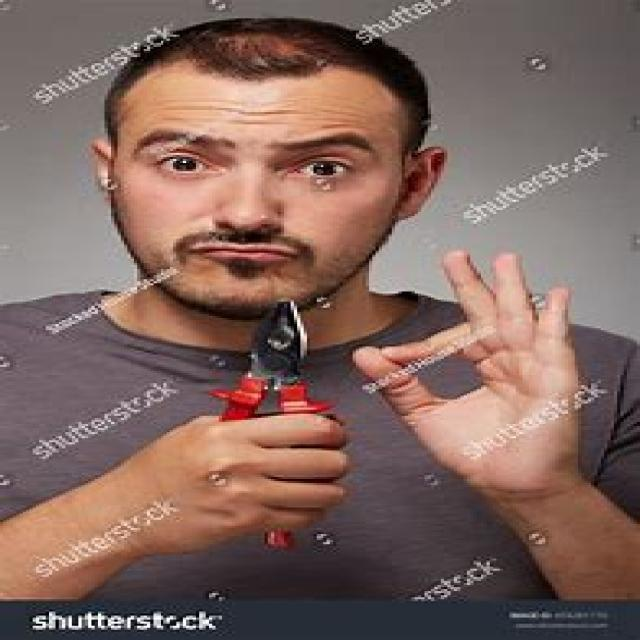pliers: (213, 296, 330, 552)
